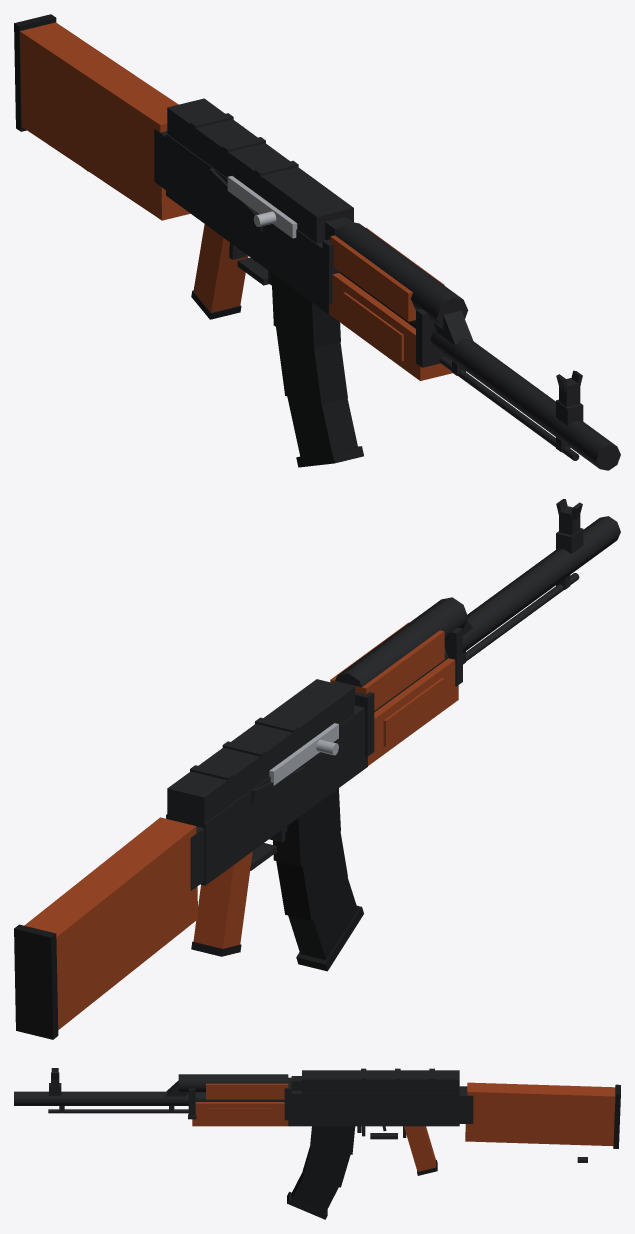
3 views of the same model, one above another, from view 1: azimuth 30°, elevation 25°; view 2: azimuth 150°, elevation 25°; view 3: azimuth 270°, elevation 25° (orthographic). The views are drawn at different scales.
Visible parts, largest first — view 1: Mesh_StockMain, Mesh_DustCover, Mesh_ReceiverMain, Mesh_Barrel, Mesh_GasTube, Mesh_MagSeg2, Mesh_MagSeg3, Mesh_PistolGrip, Mesh_LowerHandguard, Mesh_MagSeg1, Mesh_UpperHandguard, Mesh_HandguardLeftSwell (+9 smaller); view 2: Mesh_StockMain, Mesh_DustCover, Mesh_ReceiverMain, Mesh_Barrel, Mesh_Buttplate, Mesh_GasTube, Mesh_PistolGrip, Mesh_MagSeg2, Mesh_MagSeg1, Mesh_MagSeg3, Mesh_UpperHandguard, Mesh_LowerHandguard (+7 smaller); view 3: Mesh_StockMain, Mesh_ReceiverMain, Mesh_DustCover, Mesh_Barrel, Mesh_LowerHandguard, Mesh_UpperHandguard, Mesh_GasTube, Mesh_MagSeg2, Mesh_MagSeg1, Mesh_MagSeg3, Mesh_PistolGrip, Mesh_HandguardRightSwell (+5 smaller).
Boxes of the visible parts, x1,y1,x2,y2 form: Mesh_StockMain: (20,22,190,220); Mesh_DustCover: (167,98,353,243); Mesh_ReceiverMain: (166,134,329,314); Mesh_Barrel: (339,272,620,470); Mesh_GasTube: (335,221,468,328); Mesh_MagSeg2: (276,327,347,404); Mesh_MagSeg3: (287,396,357,456); Mesh_PistolGrip: (193,224,248,312); Mesh_LowerHandguard: (329,273,452,380); Mesh_MagSeg1: (271,273,340,348); Mesh_UpperHandguard: (330,227,444,321); Mesh_HandguardLeftSwell: (343,292,403,361); Mesh_StockMain: (24,817,198,1029); Mesh_DustCover: (167,679,353,825); Mesh_ReceiverMain: (166,705,367,885); Mesh_Barrel: (374,516,620,712); Mesh_Buttplate: (14,924,58,1039); Mesh_GasTube: (335,597,468,687); Mesh_PistolGrip: (193,851,252,948); Mesh_MagSeg2: (276,832,347,920); Mesh_MagSeg1: (273,788,340,866); Mesh_MagSeg3: (288,877,357,959); Mesh_UpperHandguard: (330,622,444,710); Mesh_LowerHandguard: (368,658,458,765); Mesh_StockMain: (465,1082,615,1146); Mesh_ReceiverMain: (288,1090,459,1126); Mesh_DustCover: (302,1070,459,1093); Mesh_Barrel: (14,1091,284,1105); Mesh_LowerHandguard: (192,1102,288,1126); Mesh_UpperHandguard: (206,1083,288,1099); Mesh_GasTube: (178,1074,288,1092); Mesh_MagSeg2: (302,1146,350,1187); Mesh_MagSeg1: (310,1126,355,1154); Mesh_MagSeg3: (291,1172,338,1213); Mesh_PistolGrip: (404,1126,435,1171); Mesh_HandguardRightSwell: (209,1108,270,1122).
Bounding box in the file's own units: 0.058 × 0.2349 × 0.8855.
